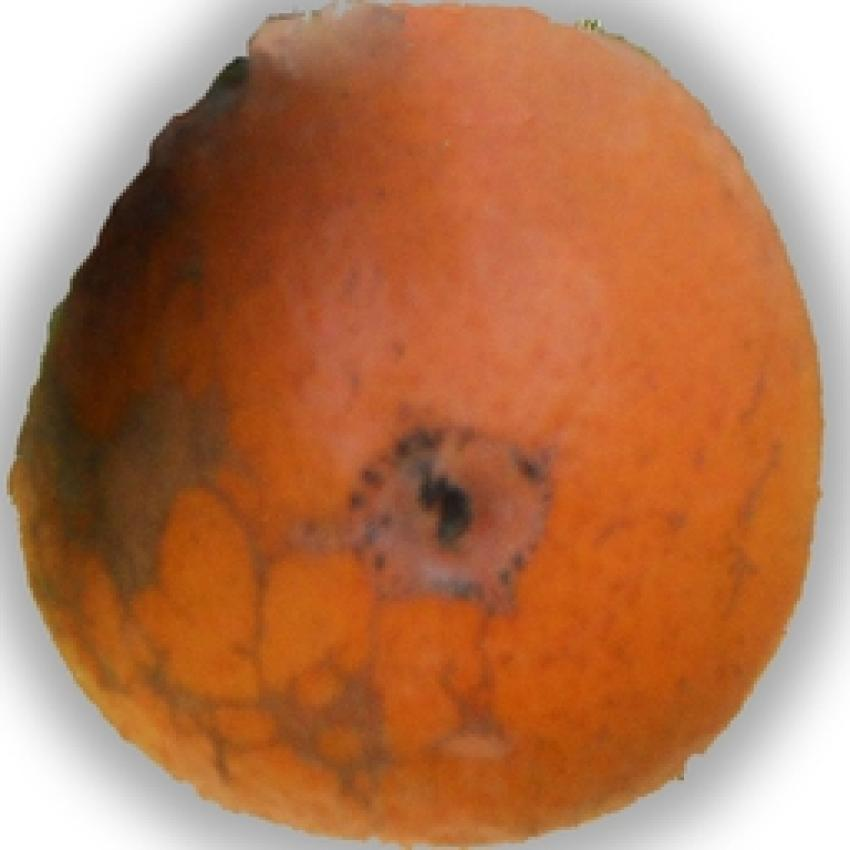Mal estado: (0, 0, 842, 846)
